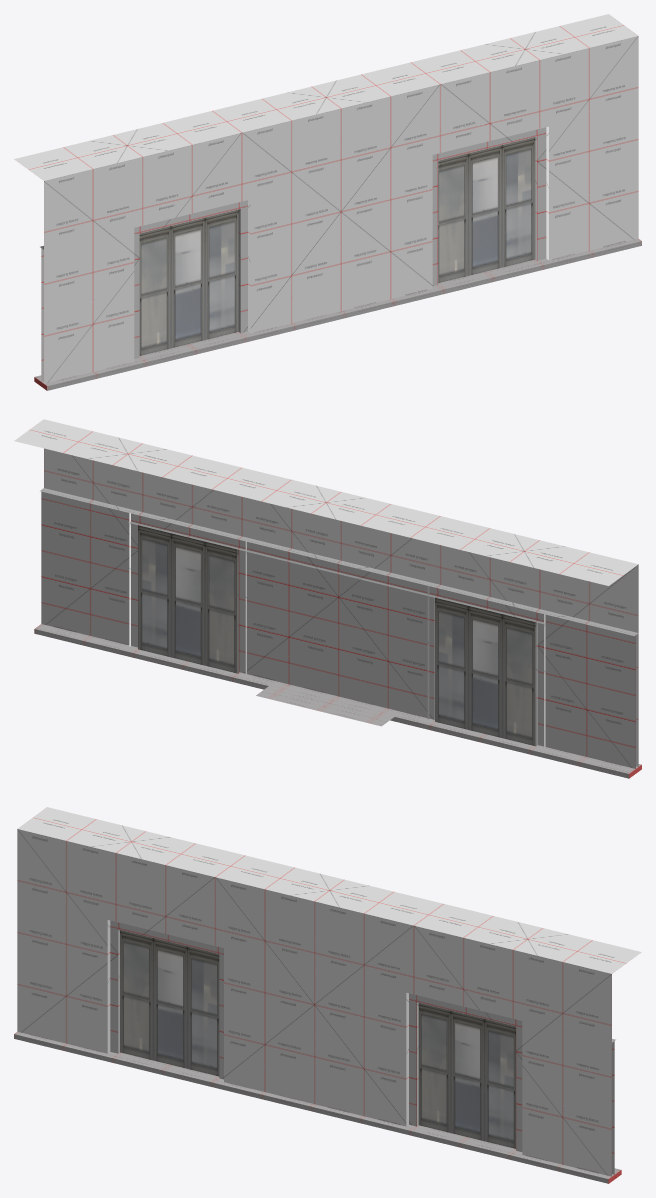
3 views of the same model, one above another, from view 1: azimuth 30°, elevation 25°; view 2: azimuth 150°, elevation 25°; view 3: azimuth 330°, elevation 25° (orthographic).
Visible parts, largest first — view 1: B_02_3x_c, B_02_border_b; view 2: B_02_3x_c, B_02_border_b; view 3: B_02_3x_c, B_02_border_b.
Boxes of the visible parts, box(x1,y1,x2,y2) form: B_02_3x_c: box(14, 14, 638, 383); B_02_border_b: box(34, 238, 641, 390); B_02_3x_c: box(14, 419, 638, 768); B_02_border_b: box(34, 624, 641, 778); B_02_3x_c: box(17, 807, 641, 1176); B_02_border_b: box(14, 1031, 621, 1183).
Bounding box in the file's own units: 60 × 5.8 × 20.
